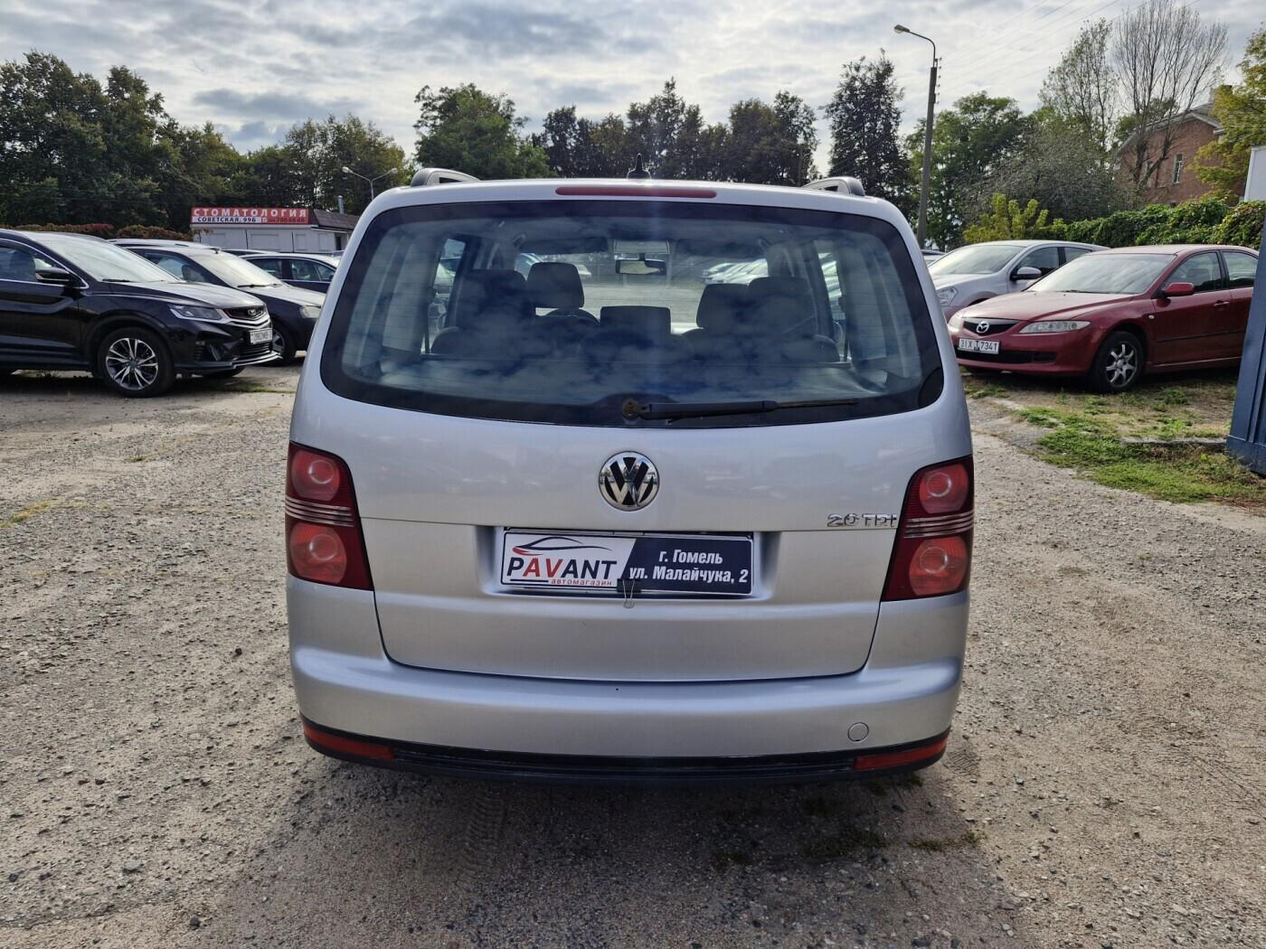Touran_2006-2010: (279, 174, 978, 790)
